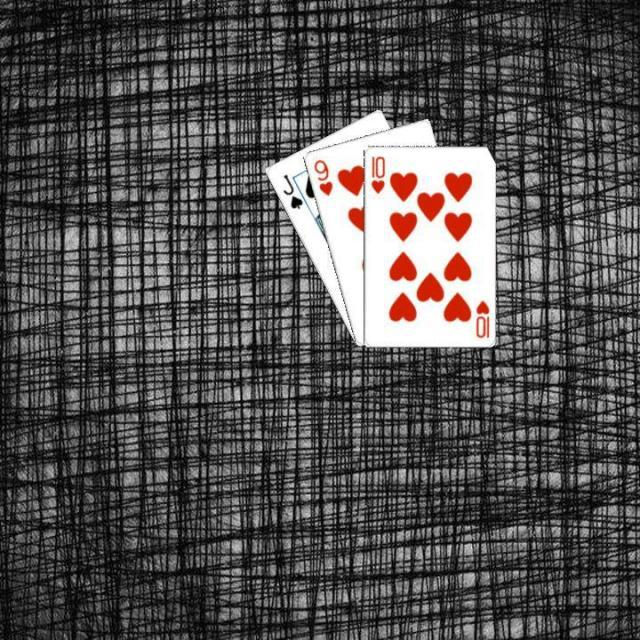10H: (472, 296, 490, 340), (367, 152, 385, 194)
9H: (310, 156, 335, 198)
JS: (278, 171, 304, 211)
